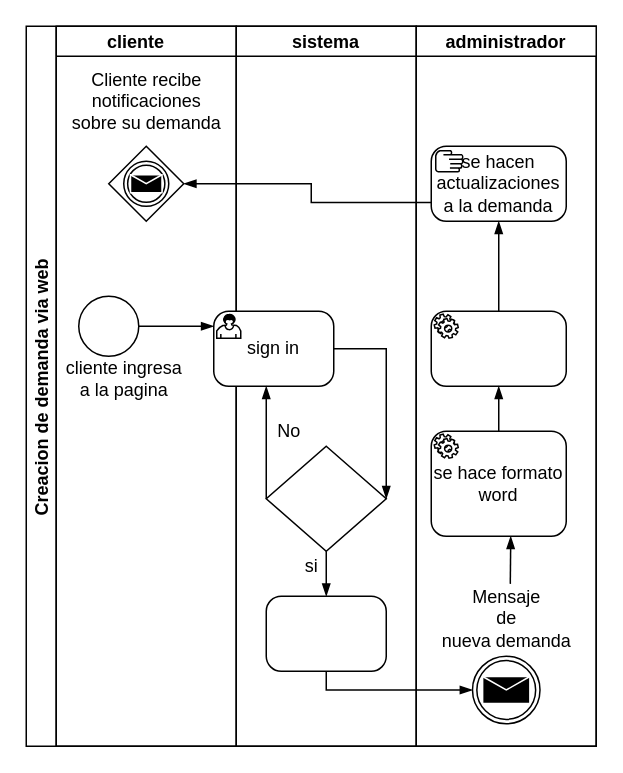
This 623x773 diagram has some shape labels left out. The shapes that lost their labels are listed below. From the top down, each one's centre as x and y in pixels, then its label:
At point (498, 348): "se recibe el pago".
At point (325, 498): "Datos verificados".
At point (325, 633): "Llenar formulario".
